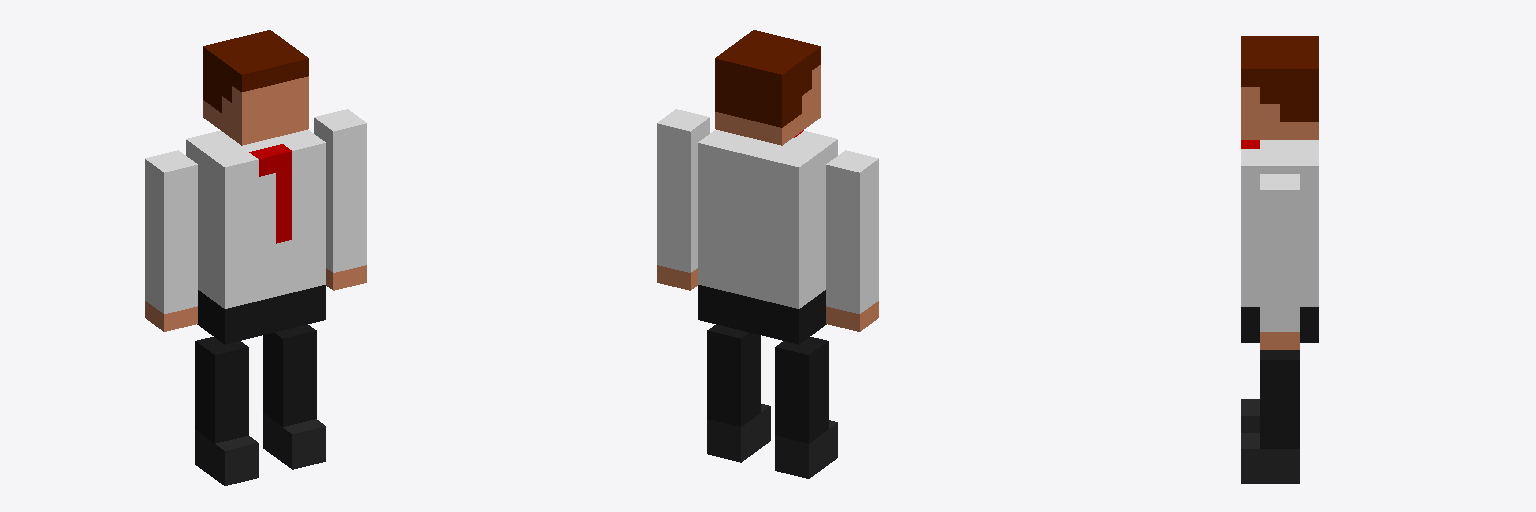
3 renders of one model, left to right at view 1: azimuth 30°, elevation 25°; view 2: azimuth 150°, elevation 25°; view 3: azimuth 270°, elevation 25°, orthographic.
Bounding box in the file's own units: 12 × 23 × 4.
Materials: 1 (1 with a texture image).